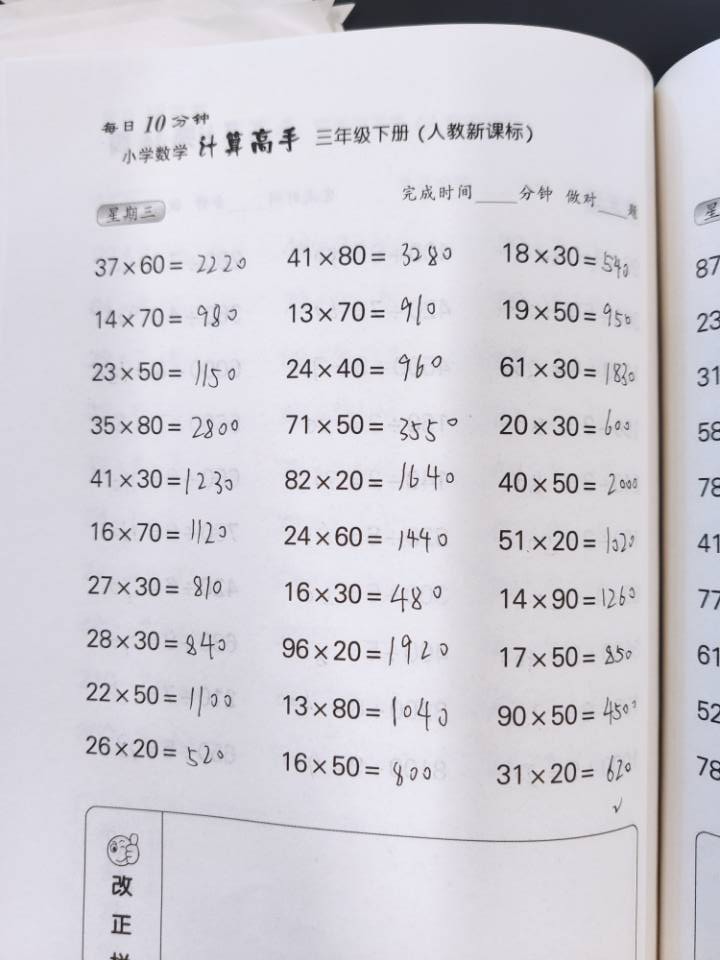equation: (172, 337, 211, 600), (421, 612, 460, 875), (515, 340, 554, 603), (298, 335, 337, 597), (380, 603, 419, 865), (425, 339, 464, 601), (467, 351, 506, 613), (506, 607, 545, 869), (178, 605, 216, 868), (258, 333, 296, 596), (261, 600, 299, 863), (218, 336, 256, 599), (218, 601, 256, 864), (300, 76, 338, 339), (258, 68, 296, 331), (344, 341, 382, 604), (385, 340, 423, 603), (560, 81, 598, 344), (556, 348, 594, 611), (543, 612, 581, 875), (217, 75, 255, 337), (174, 79, 212, 341), (303, 607, 341, 869), (343, 611, 381, 873), (343, 71, 381, 333), (384, 71, 422, 333), (471, 75, 509, 337), (428, 71, 466, 333), (513, 71, 551, 333), (466, 615, 504, 877)
